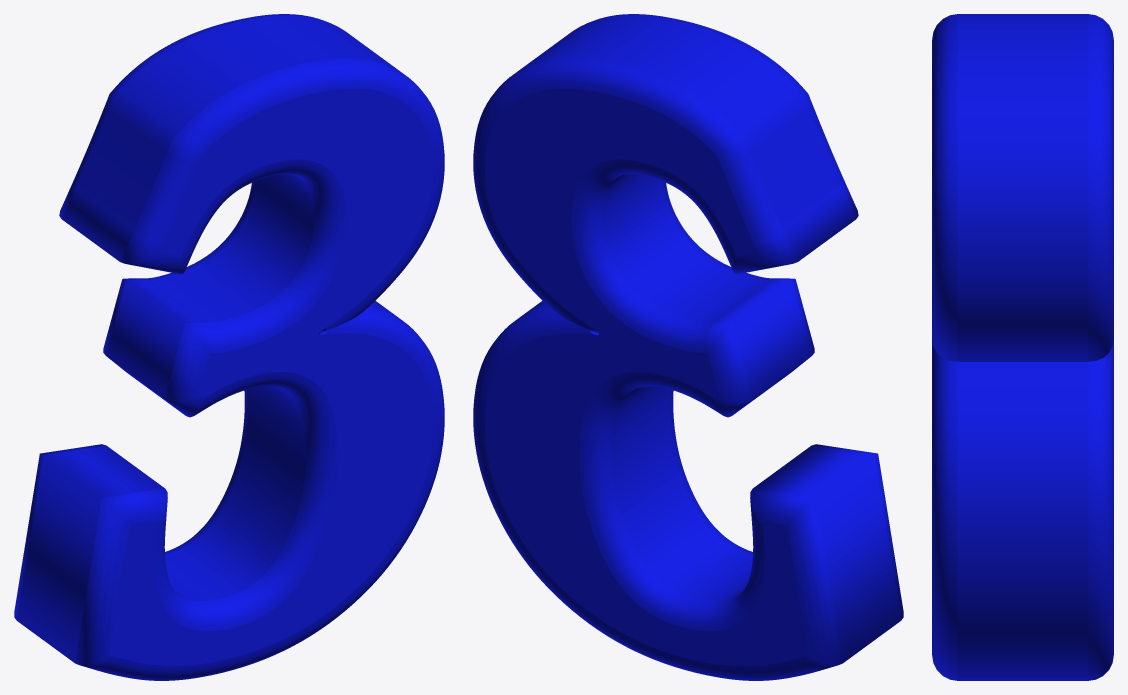
The model's file is number_3.fbx.
The picture shows the model from 3 angles, left to right: view 1: azimuth 30°, elevation 25°; view 2: azimuth 150°, elevation 25°; view 3: azimuth 270°, elevation 25°; orthographic projection. The views are drawn at different scales.
Visible parts, largest first — view 1: Text; view 2: Text; view 3: Text.
Boxes of the visible parts, bbox=[...] form: Text: bbox=[14, 14, 444, 680]; Text: bbox=[473, 14, 903, 680]; Text: bbox=[932, 14, 1113, 680].
Size of the model in its own units: 179 by 274 by 69.41.
